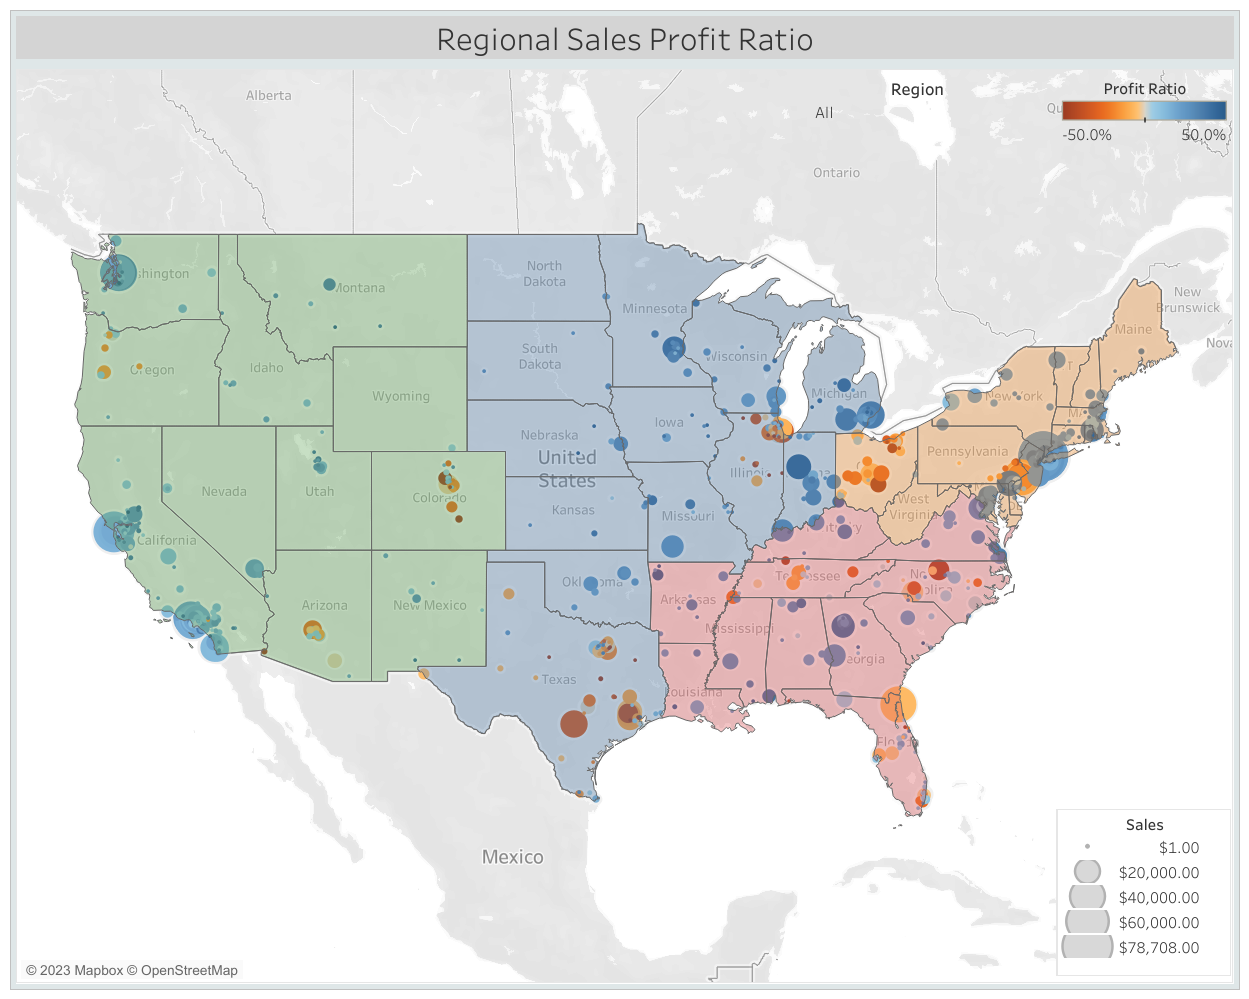

This screenshot's page, from the dashboard's own definition file:
{"tool":"tableau","page":{"name":"Regional Profit Ratio","canvas":[1000,800],"ordinal":0},"visuals":[{"type":"title","box":[9,9,982,42]},{"type":"worksheet","title":"Dual Layer Maps","mark":"Multipolygon","box":[9,51,982,740]},{"type":"legend","title":"Dual Layer Maps","param":"[federated.0rv288j1royv7p162m8oi19pwobt].[usr:Calculation_682295384762310656:qk]","box":[846,57,140,56]},{"type":"filter","title":"Dual Layer Maps","param":"[federated.0rv288j1royv7p162m8oi19pwobt].[none:Region:nk]","box":[650,60,168,48]},{"type":"legend","title":"Dual Layer Maps","param":"[federated.0rv288j1royv7p162m8oi19pwobt].[sum:Sales:qk]","box":[845,647,140,134]}]}

Visuals, with their boxes in screenshot pixels (x1, y1, x2, y2), scaled from the page's 1000x800 canvas onto the 1249x999 screenshot:
title: select_region(11, 11, 1238, 64)
"Dual Layer Maps" worksheet (Multipolygon marks): select_region(11, 64, 1238, 988)
"Dual Layer Maps" legend: select_region(1057, 71, 1232, 141)
"Dual Layer Maps" filter: select_region(812, 75, 1022, 135)
"Dual Layer Maps" legend: select_region(1055, 808, 1230, 975)
